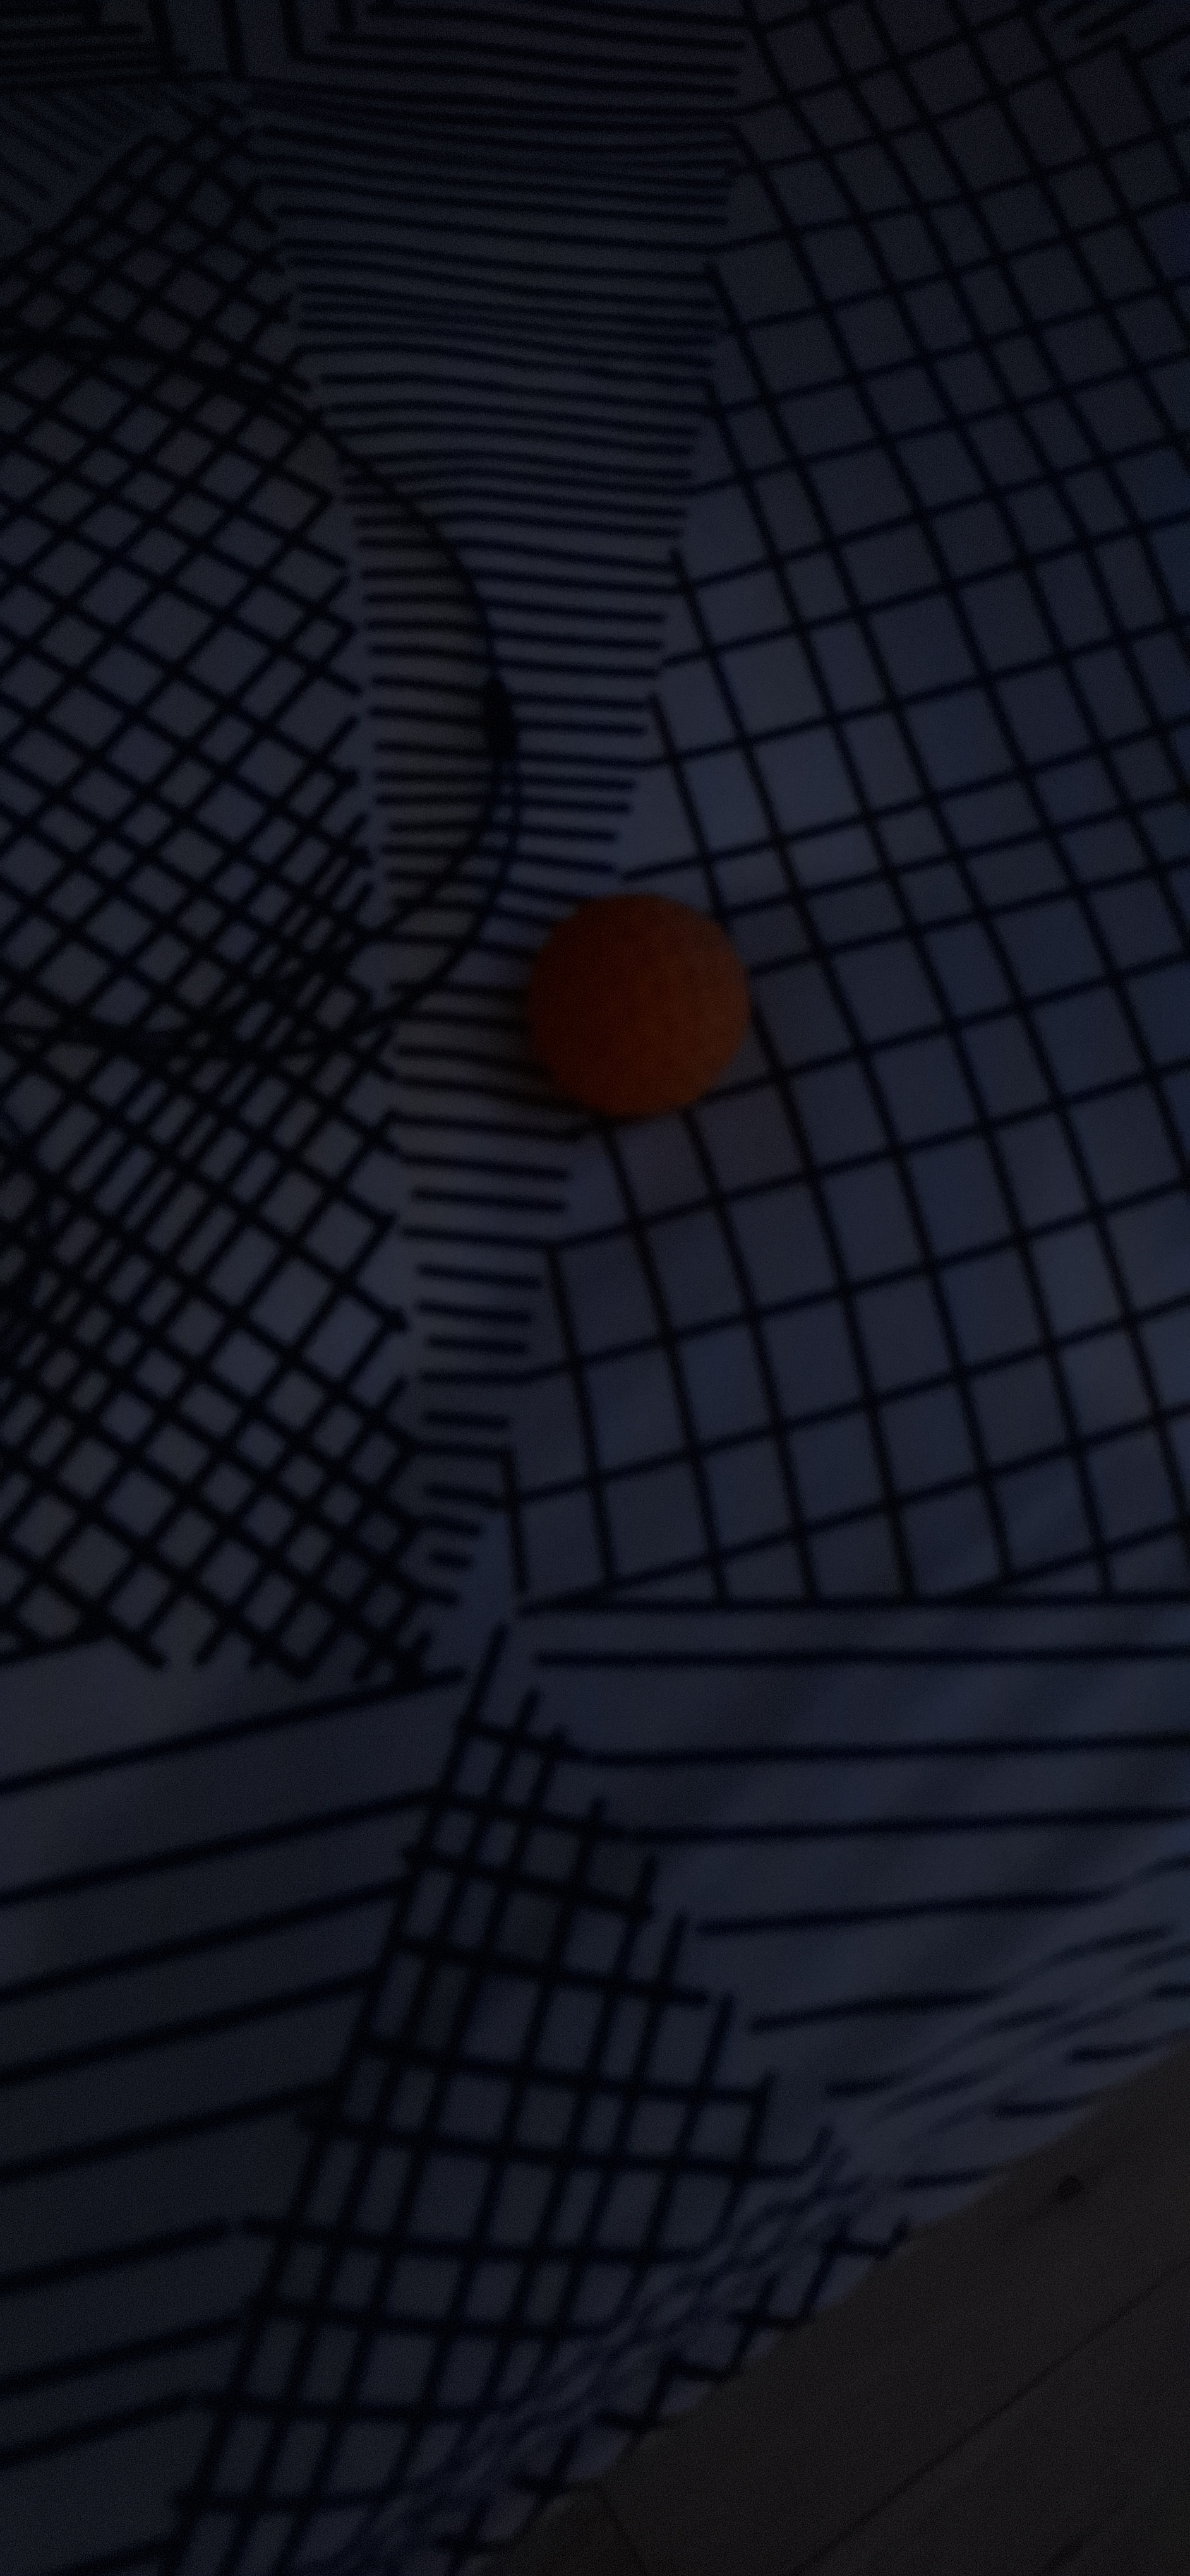ball: (413, 958, 516, 1446)
